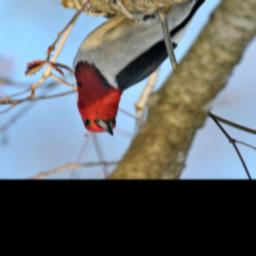Woodpecker: (65, 0, 223, 145)
